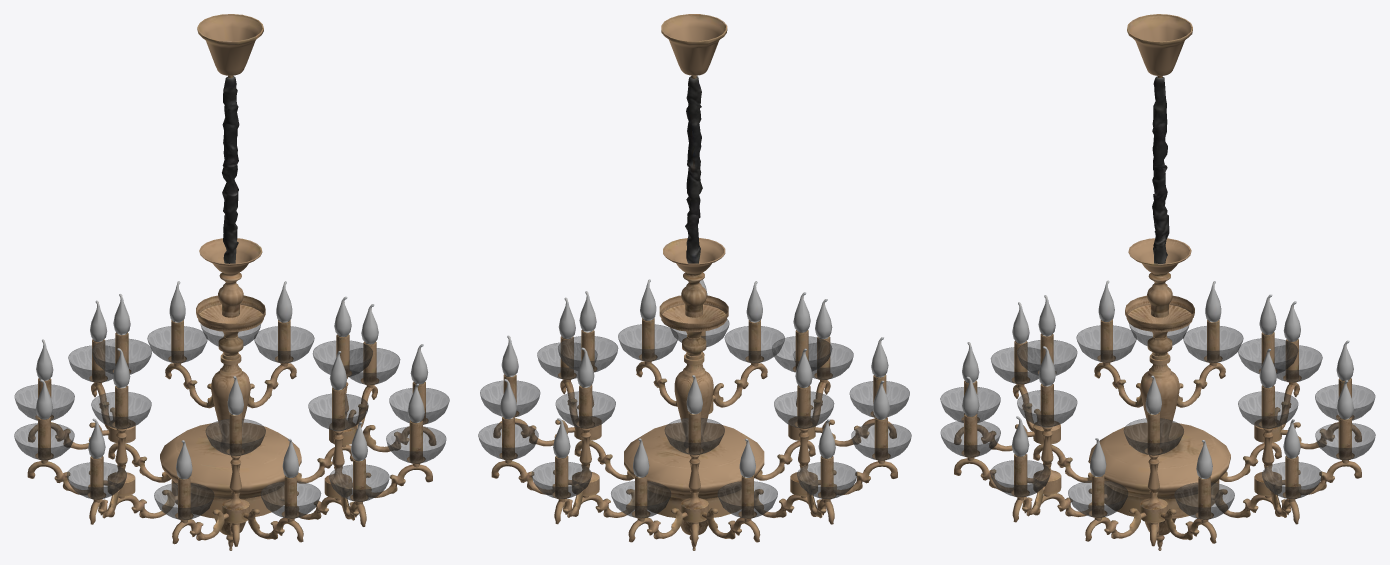
The picture shows the model from 3 angles, left to right: view 1: azimuth 30°, elevation 25°; view 2: azimuth 150°, elevation 25°; view 3: azimuth 270°, elevation 25°; orthographic projection.
Visible parts, largest first — view 1: Chandelier_03; view 2: Chandelier_03; view 3: Chandelier_03.
Boxes of the visible parts, x1,y1,x2,y2 form: Chandelier_03: (14, 14, 449, 550); Chandelier_03: (478, 14, 911, 550); Chandelier_03: (940, 14, 1375, 550).
Bounding box in the file's own units: 0.7804 × 1.04 × 0.7855.
2 materials, 2 textured.
